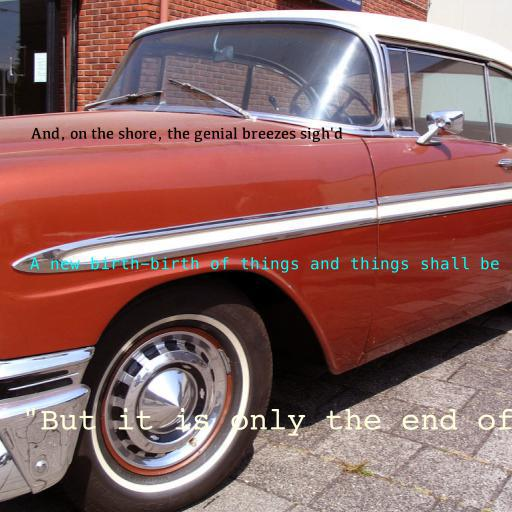Courier: (0, 407, 512, 436)
Kefa: (31, 127, 343, 143)
Menlo: (30, 257, 500, 273)
